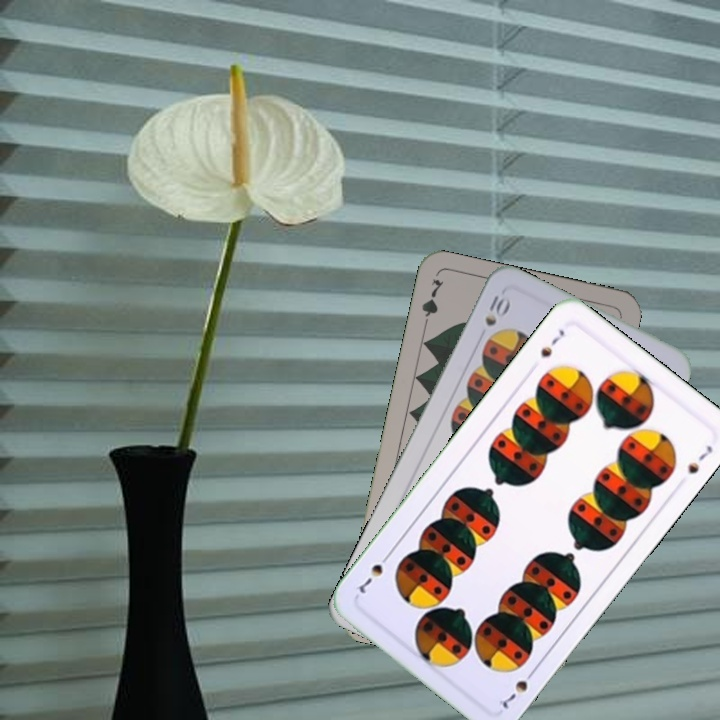G7: (417, 275, 446, 333)
S10: (480, 291, 512, 329)
S7: (494, 664, 539, 711), (536, 324, 568, 360)
